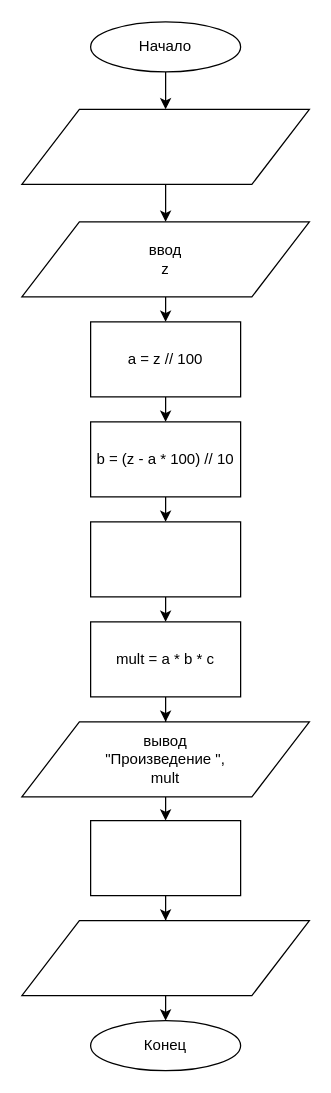
Some shapes in this 331 by 1093 pixel diagram are drawn without their labels. Each missing label, with the box of its shape:
c = z - a * 100 - b * 10: (89, 521, 241, 597)
summ = a + b + c: (89, 819, 241, 896)
вывод "Введите трехзначное число": (21, 108, 309, 184)
вывод "Сумма ", summ: (21, 919, 309, 996)
